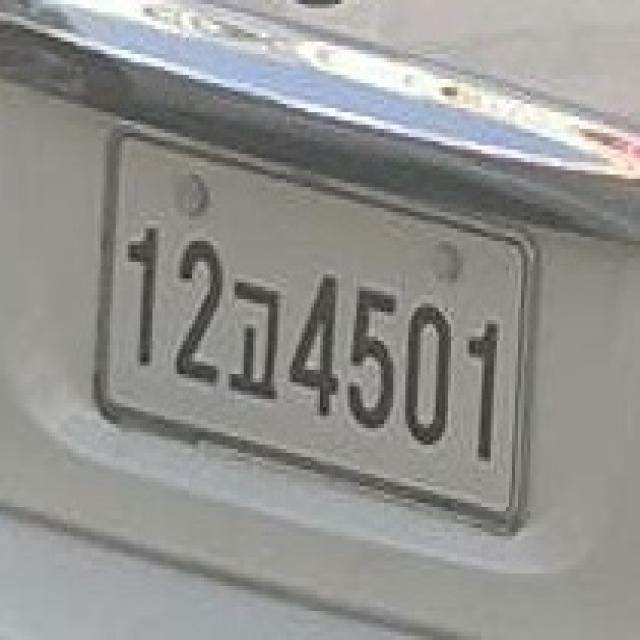0: (402, 295, 457, 457)
1: (112, 216, 170, 374), (460, 316, 509, 474)
2: (168, 228, 225, 394)
4: (290, 266, 344, 424)
5: (344, 274, 402, 449)
go: (226, 270, 284, 412)
license_plate: (86, 116, 530, 544)
